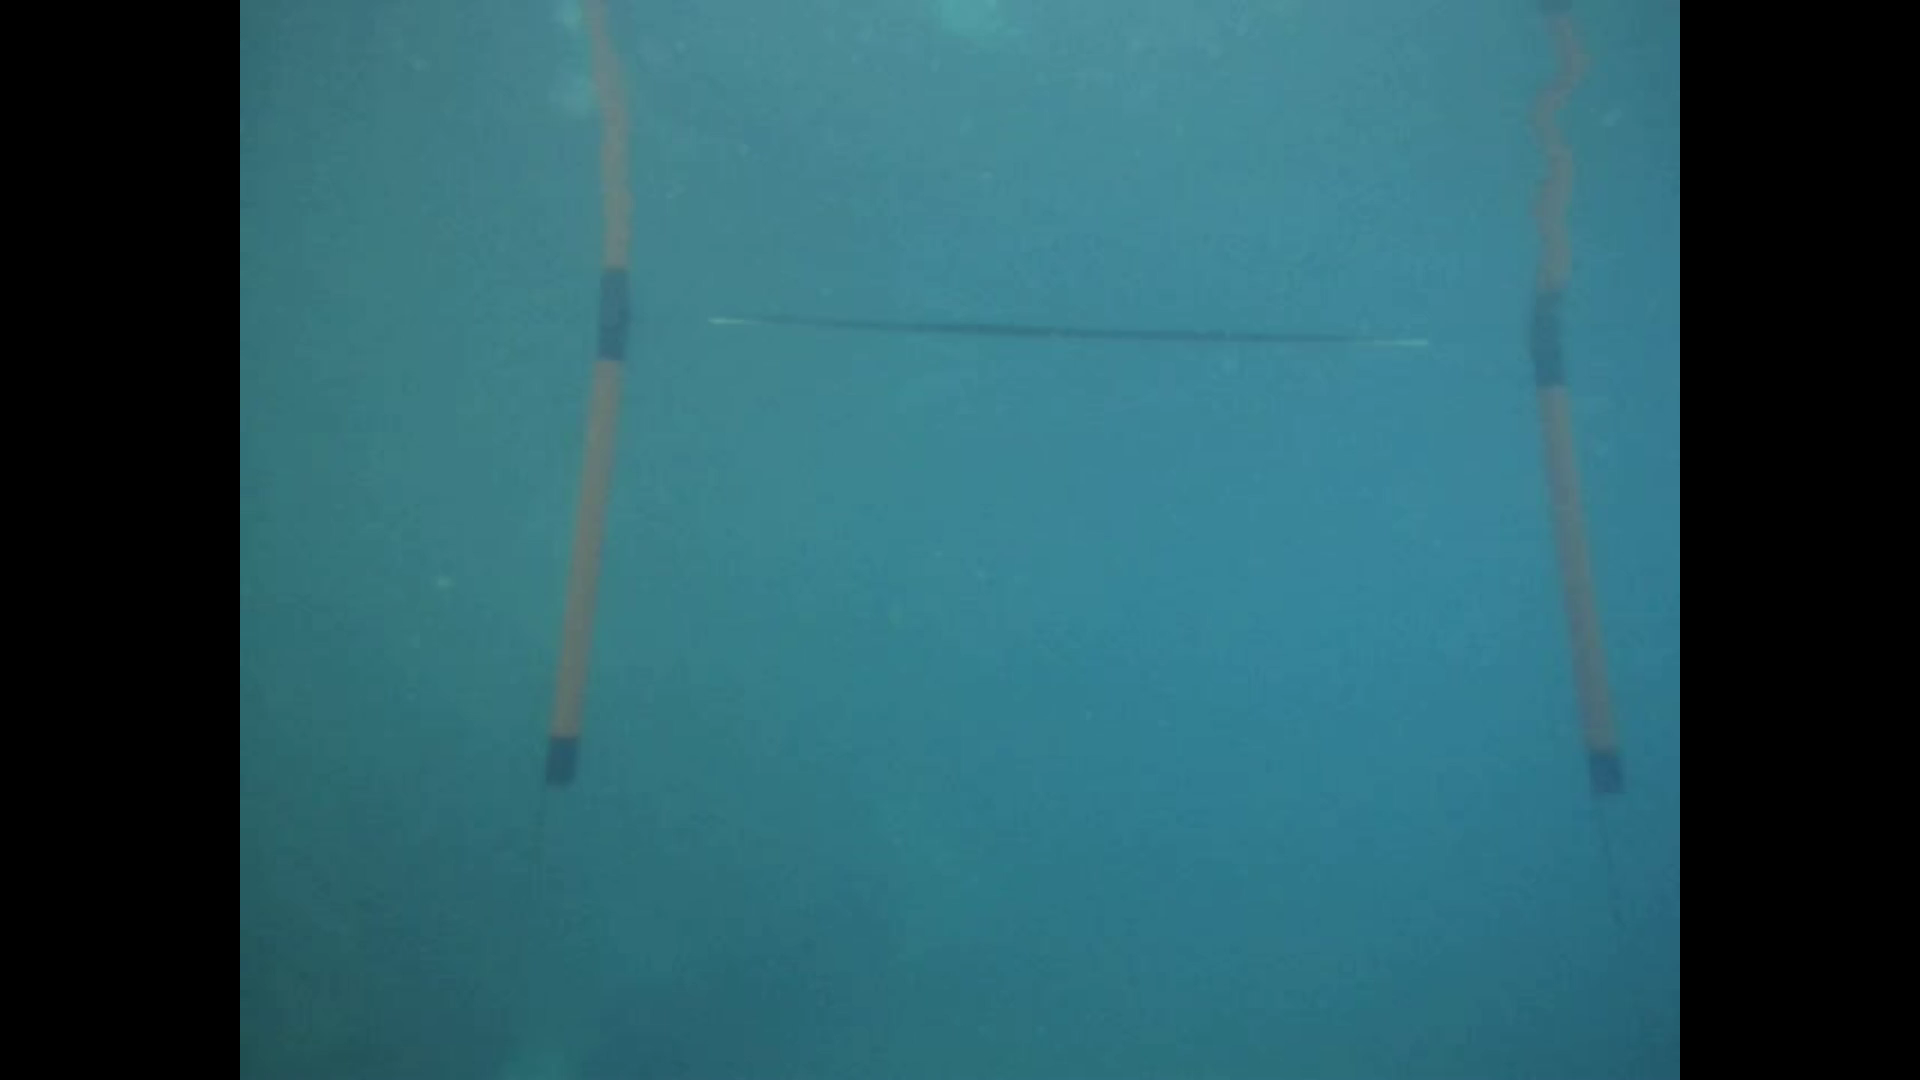gate: (542, 318, 1633, 802)
